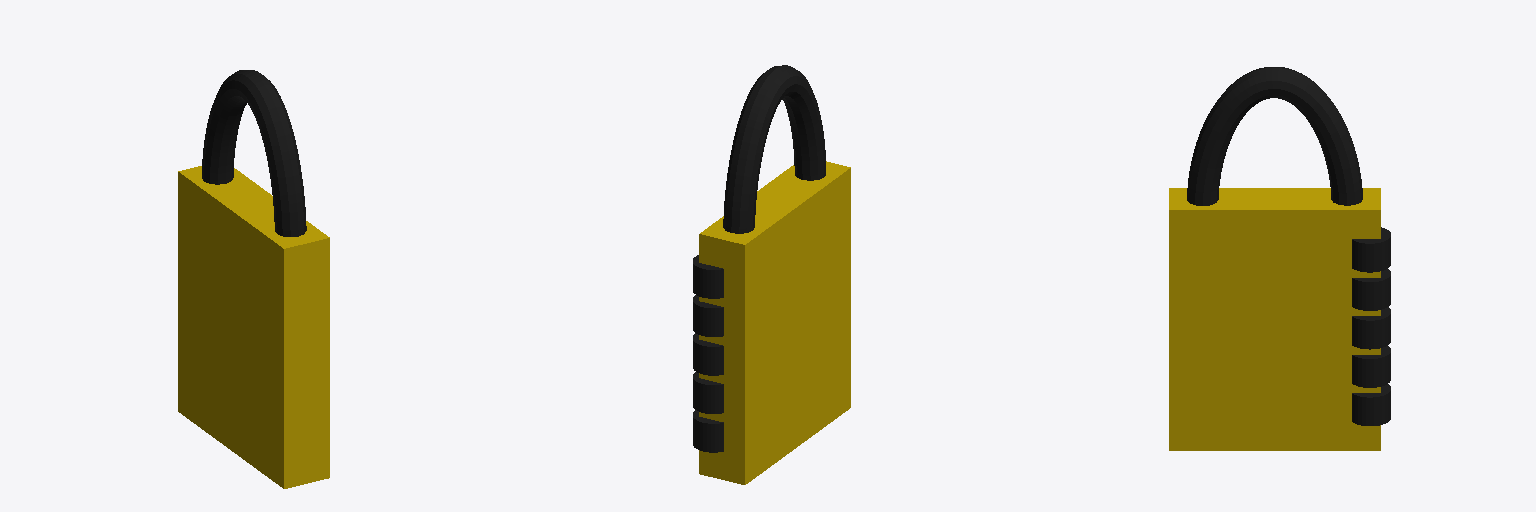
The model's file is Padlock5.obj.
3 views of the same model, side by side, from view 1: azimuth 30°, elevation 25°; view 2: azimuth 150°, elevation 25°; view 3: azimuth 270°, elevation 25° (orthographic).
Parts seen in each view (by area): view 1: Rectangle, Curve; view 2: Rectangle, Curve, Roll1, Roll3, Roll5, Roll2, Roll4; view 3: Rectangle, Curve, Roll1, Roll3, Roll5, Roll2, Roll4.
Boxes of the visible parts, box(x1,y1,x2,y2) form: Rectangle: box(178, 166, 329, 488); Curve: box(202, 70, 306, 236); Rectangle: box(699, 161, 850, 484); Curve: box(723, 65, 825, 233); Roll1: box(693, 255, 723, 298); Roll3: box(693, 333, 723, 375); Roll5: box(693, 410, 723, 452); Roll2: box(693, 295, 723, 336); Roll4: box(693, 372, 723, 413); Rectangle: box(1169, 188, 1380, 450); Curve: box(1187, 67, 1362, 205); Roll1: box(1352, 227, 1390, 272); Roll3: box(1352, 307, 1390, 349); Roll5: box(1352, 384, 1390, 425); Roll2: box(1352, 269, 1390, 310); Roll4: box(1352, 346, 1390, 387).
Bounding box in the file's own units: 0.6 × 3.87 × 2.1.